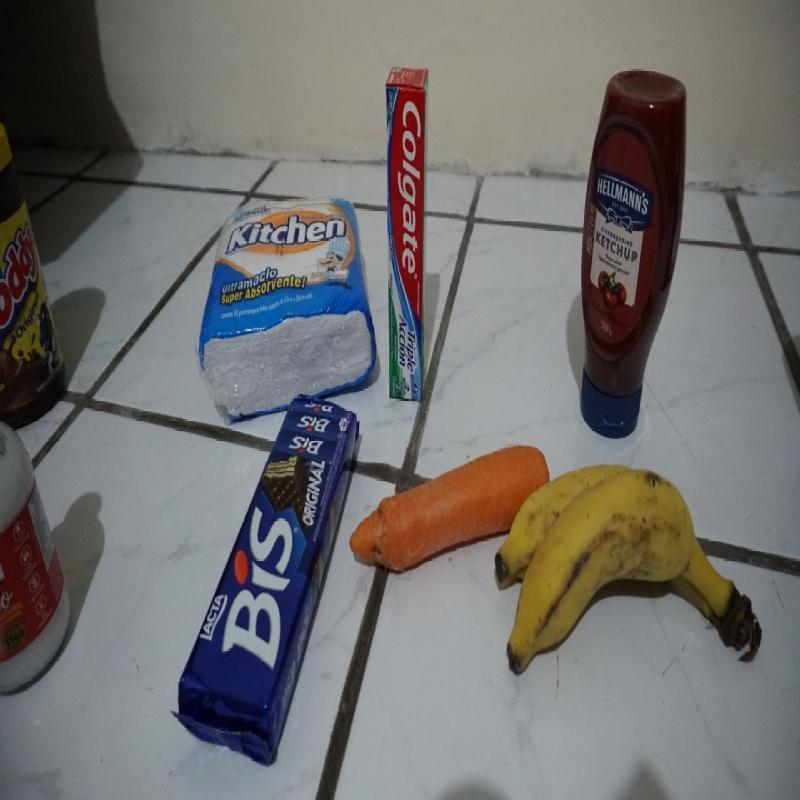Banana: (495, 466, 762, 678)
Carrot: (349, 447, 551, 560)
Chocolate Powder: (2, 117, 66, 412)
Coconut Milk: (1, 416, 70, 699)
Ketchup: (583, 70, 688, 439)
Napkin: (202, 199, 377, 417)
Toothpaste: (385, 65, 428, 404)
